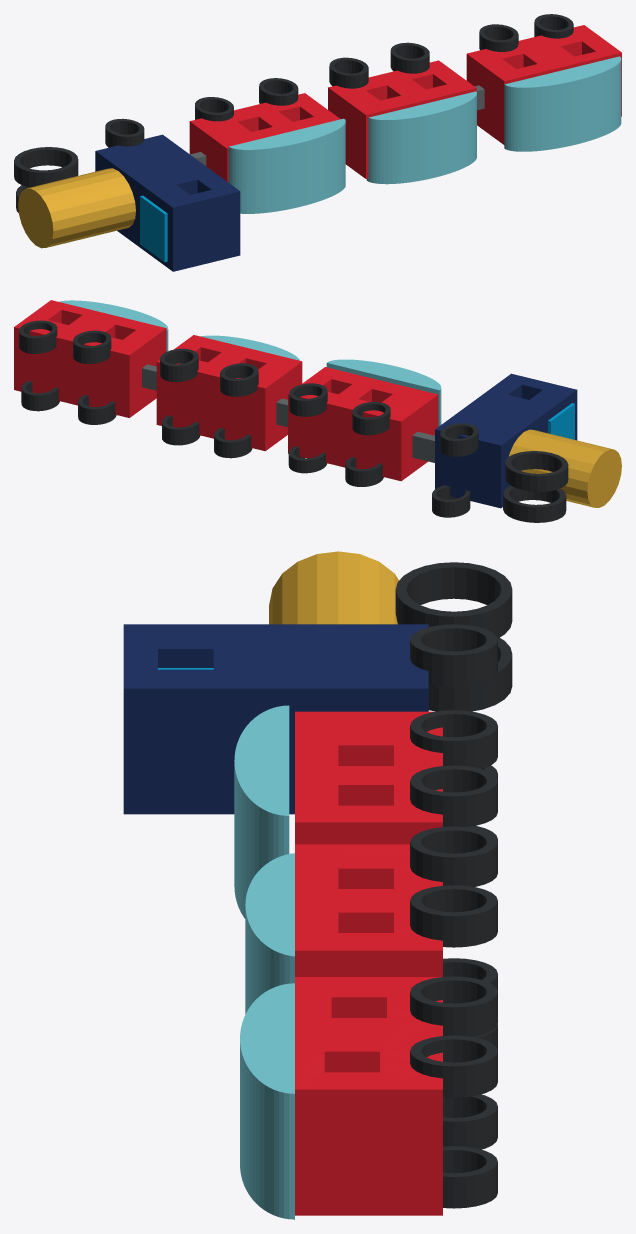
Rendered from tinker.obj.
The picture shows the model from 3 angles, top to bottom: view 1: azimuth 30°, elevation 25°; view 2: azimuth 150°, elevation 25°; view 3: azimuth 270°, elevation 25°; orthographic projection. The views are drawn at different scales.
Visible parts, largest first — view 1: group_0_7720667, group_0_15277357, group_0_1650274, group_0_2829873, group_0_14789940, group_0_40919; view 2: group_0_15277357, group_0_2829873, group_0_1650274, group_0_14789940, group_0_7720667, group_0_6383466, group_0_40919; view 3: group_0_15277357, group_0_2829873, group_0_1650274, group_0_7720667, group_0_14789940.
Part boxes in pixels (x1,y1,x2,y2): group_0_7720667: (228, 56, 621, 213); group_0_15277357: (189, 25, 621, 182); group_0_1650274: (95, 134, 240, 271); group_0_2829873: (14, 14, 573, 212); group_0_14789940: (18, 168, 135, 248); group_0_40919: (140, 195, 167, 262); group_0_15277357: (14, 300, 438, 481); group_0_2829873: (19, 320, 568, 522); group_0_1650274: (435, 373, 577, 508); group_0_14789940: (509, 429, 621, 507); group_0_7720667: (58, 300, 441, 426); group_0_6383466: (142, 364, 434, 462); group_0_40919: (548, 403, 574, 439); group_0_15277357: (295, 711, 442, 1215); group_0_2829873: (395, 562, 512, 1208); group_0_1650274: (123, 624, 428, 814); group_0_7720667: (234, 705, 294, 1219); group_0_14789940: (269, 551, 398, 624).
Bounding box in the file's own units: 188 × 27 × 56.09.
